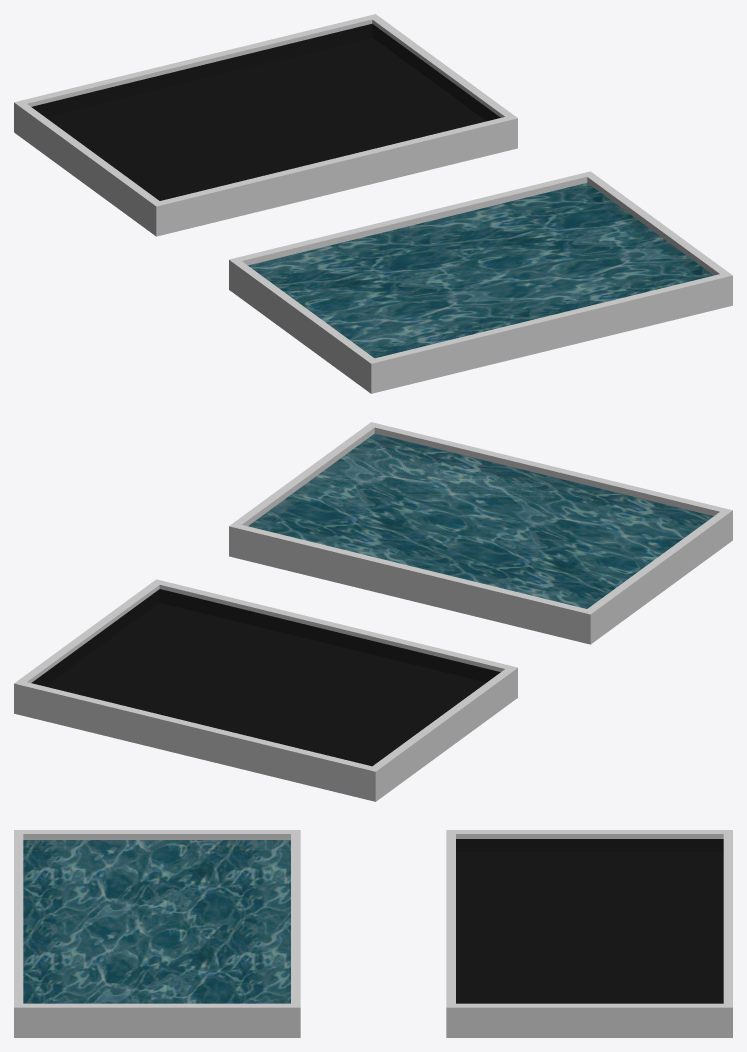
The model's file is test4_sun.dae.
The picture shows the model from 3 angles, top to bottom: view 1: azimuth 30°, elevation 25°; view 2: azimuth 150°, elevation 25°; view 3: azimuth 270°, elevation 25°; orthographic projection.
Visible parts, largest first — view 1: Plane001, Box002, Box001, Box004; view 2: Plane001, Box002, Box001, Box004; view 3: Plane001, Box002, Box001, Box004.
Boxes of the visible parts, x1=… form: Plane001: x1=31, y1=23, x2=500, y2=200; Box002: x1=248, y1=183, x2=713, y2=358; Box001: x1=229, y1=171, x2=732, y2=393; Box004: x1=14, y1=14, x2=517, y2=236; Plane001: x1=31, y1=589, x2=500, y2=766; Box002: x1=248, y1=433, x2=713, y2=608; Box001: x1=229, y1=422, x2=732, y2=644; Box004: x1=14, y1=579, x2=517, y2=801; Plane001: x1=456, y1=839, x2=723, y2=1003; Box002: x1=23, y1=840, x2=290, y2=1003; Box001: x1=14, y1=830, x2=300, y2=1037; Box004: x1=446, y1=830, x2=732, y2=1037.
Size of the model in its own units: 13071 by 22354 by 1040.
